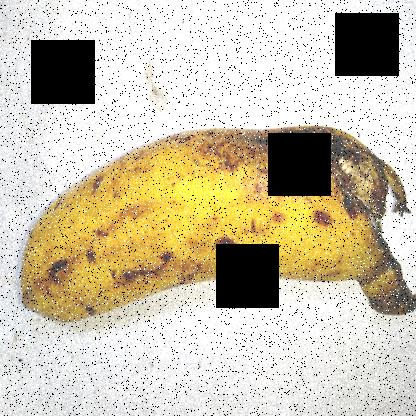ripe: (24, 100, 289, 328)
rotten: (249, 74, 415, 264)
